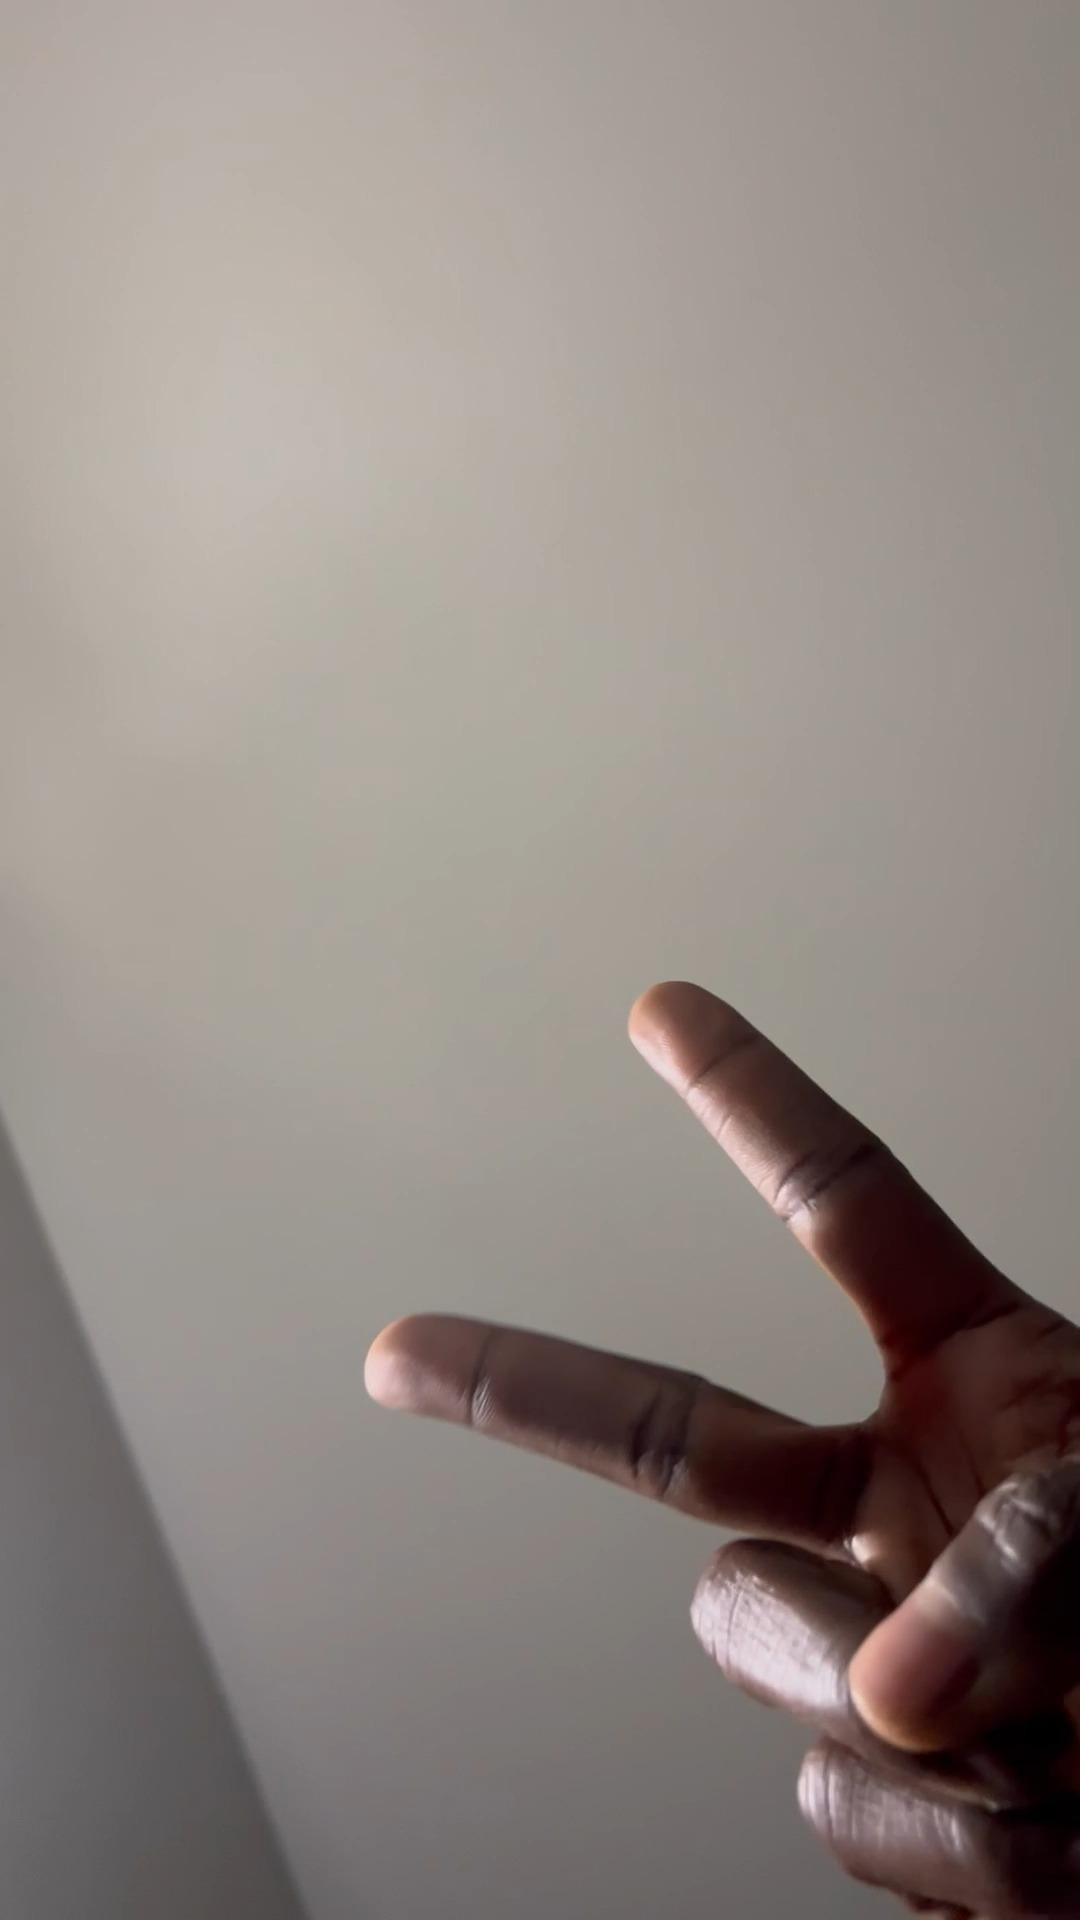Scissors: (355, 969, 1080, 1920)
